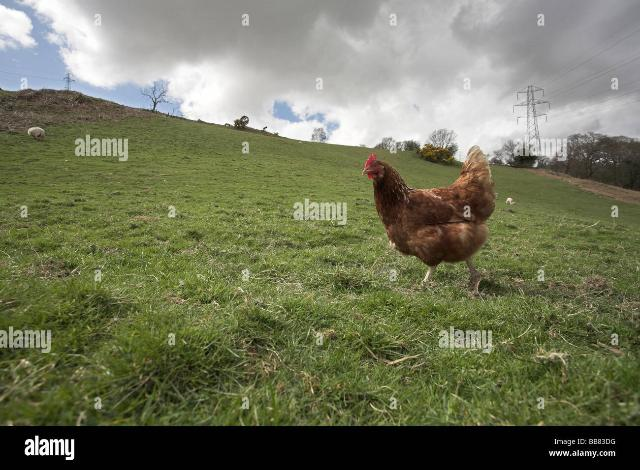Chicken: (359, 142, 499, 285)
